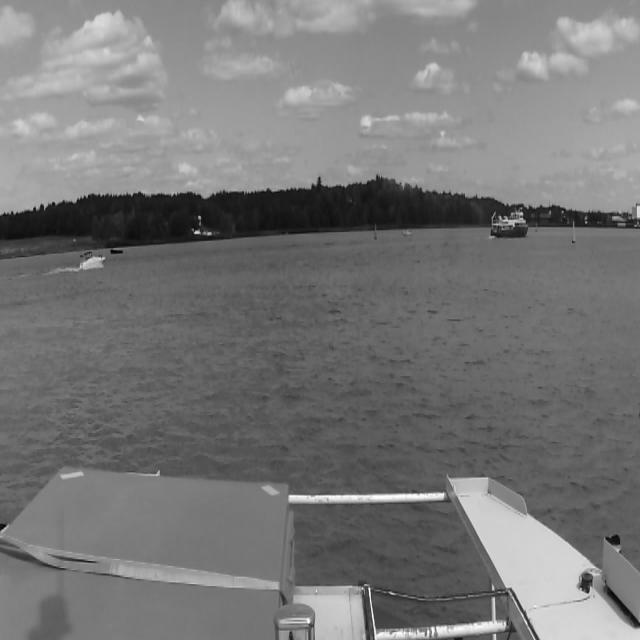buoy: (570, 220, 576, 242), (374, 225, 378, 240)
ship: (491, 208, 529, 240), (80, 252, 106, 266)
